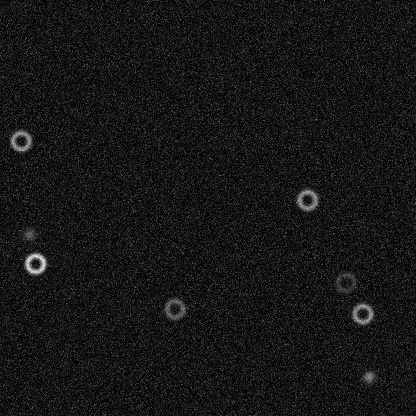Ring: (8, 128, 32, 152), (295, 187, 319, 211), (162, 296, 186, 320), (333, 270, 357, 294), (350, 301, 374, 325), (23, 251, 47, 275)
Spot: (360, 368, 376, 384), (21, 226, 37, 242)
